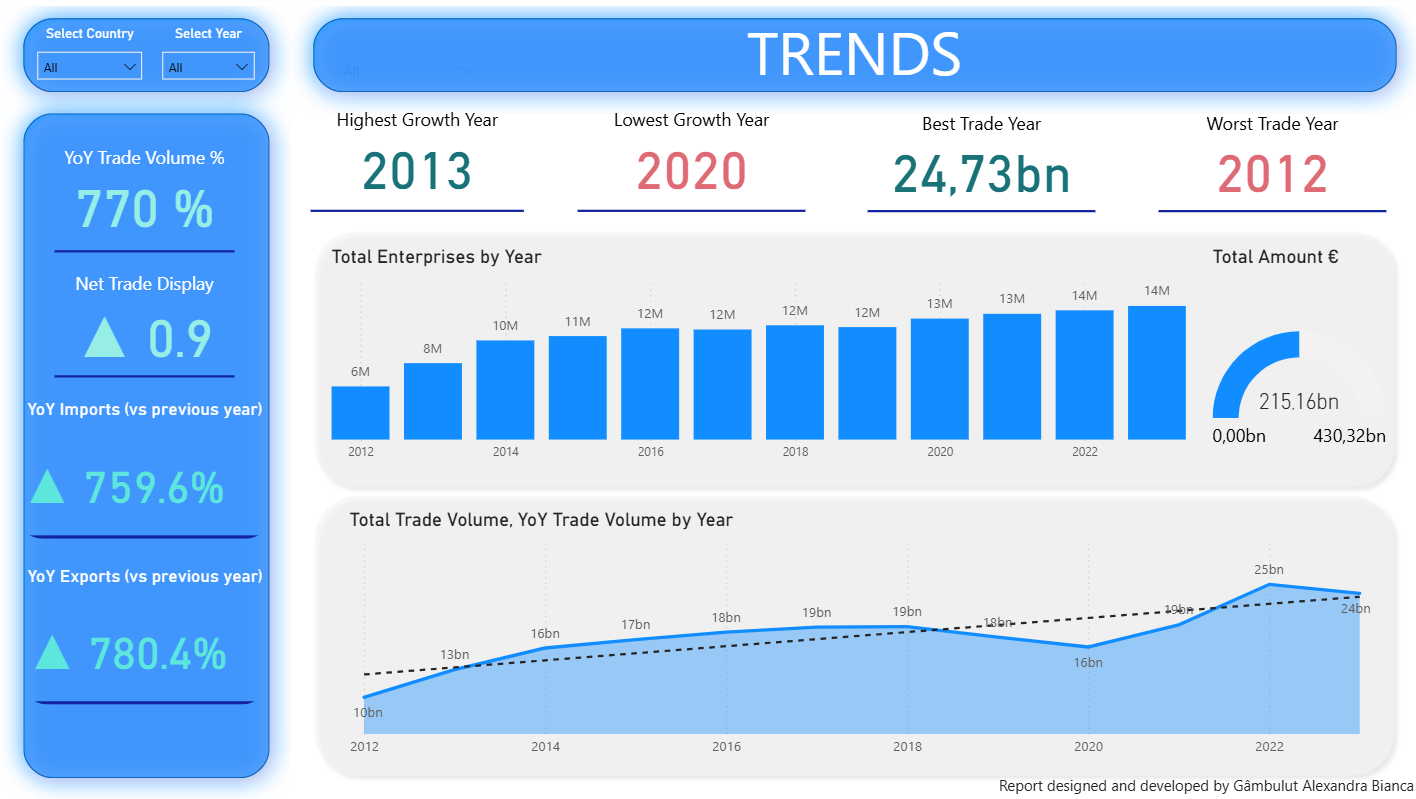

The dashboard page shown, as its layout file describes it:
{"tool":"powerbi","page":{"name":"Trends","canvas":[1280,720],"ordinal":3},"visuals":[{"type":"shape","box":[282.2,438.9,983.8,268.1],"z":0},{"type":"shape","box":[9.5,0,260.4,106.1],"z":1000},{"type":"slicer","title":"Select Year","fields":{"Values":["DimYear.DimYear"]},"box":[300.3,22.1,150.2,64.1],"z":2000},{"type":"shape","box":[282.5,202.7,983.9,245.7],"z":3000},{"type":"shape","box":[269.9,0,1010.1,106.1],"z":4000},{"type":"shape","box":[9.5,85.1,260.4,635.3],"z":5000},{"type":"cardVisual","title":"YoY Imports % (vs previous year)","fields":{"Data":["Fact_ImportsExports.Highest Growth Year"]},"box":[282.2,82.2,201.1,116.8],"z":6000},{"type":"cardVisual","title":"YoY Imports % (vs previous year)","fields":{"Data":["Fact_ImportsExports.Lowest Growth Year"]},"box":[521.1,82.2,214.1,116.8],"z":7000},{"type":"cardVisual","title":"YoY Imports % (vs previous year)","fields":{"Data":["Fact_ImportsExports.YoY Trade Volume %"]},"box":[53,114.6,171.9,120],"z":8000},{"type":"cardVisual","title":"YoY Imports % (vs previous year)","fields":{"Data":["Fact_ImportsExports.Best Trade Year"]},"box":[780.5,88.6,214.1,110.3],"z":9000},{"type":"cardVisual","title":"YoY Imports % (vs previous year)","fields":{"Data":["Fact_ImportsExports.Worst Trade Year"]},"box":[1041.1,88.6,214.1,110.3],"z":10000},{"type":"cardVisual","title":"YoY Imports (vs previous year)","fields":{"Data":["Fact_ImportsExports.YoY Imports % Display"]},"box":[13,360,251.9,131.9],"z":11000},{"type":"cardVisual","title":"YoY Exports (vs previous year)","fields":{"Data":["Fact_ImportsExports.YoY Exports % Display"]},"box":[17.3,509.2,243.2,130.8],"z":12000},{"type":"lineChart","title":"Total Trade Volume, YoY Trade Volume by Year","fields":{"Category":["DimYear.DimYear"],"Y":["Fact_ImportsExports.Total Trade Volume €"]},"box":[316.8,458.4,927.6,231.4],"z":13000},{"type":"clusteredColumnChart","fields":{"Category":["DimYear.DimYear"],"Y":["Fact_ImportsExports.Total Enterprises"]},"box":[300.5,222.7,775.1,203.2],"z":14000},{"type":"cardVisual","title":"YoY Imports % (vs previous year)","fields":{"Data":["Fact_ImportsExports.Net Trade Display"]},"box":[53,234.6,171.9,112.4],"z":15000},{"type":"slicer","title":"Select Country","fields":{"Values":["DimCountry.Country"]},"box":[32.6,27.3,114.5,64.1],"z":16000},{"type":"slicer","title":"Select Year","fields":{"Values":["DimYear.DimYear"]},"box":[143.9,27.3,102.9,64.1],"z":17000},{"type":"textbox","box":[282.5,8.4,983.9,83],"z":18000},{"type":"gauge","fields":{"Y":["Fact_ImportsExports.Total Amount €"]},"box":[1089.7,222.7,165.4,244.3],"z":19000},{"type":"textbox","box":[843.2,693.4,436.8,26.6],"z":19001}]}

Visuals, with their boxes in screenshot pixels (x1, y1, x2, y2), scaled from the page's 1280x720 canvas onto the 1416x799 screenshot:
shape: <region>312, 487, 1401, 785</region>
shape: <region>11, 0, 299, 118</region>
"Select Year" slicer: <region>332, 25, 498, 96</region>
shape: <region>313, 225, 1401, 498</region>
shape: <region>299, 0, 1415, 118</region>
shape: <region>11, 94, 299, 798</region>
"YoY Imports % (vs previous year)" cardVisual: <region>312, 91, 535, 221</region>
"YoY Imports % (vs previous year)" cardVisual: <region>576, 91, 813, 221</region>
"YoY Imports % (vs previous year)" cardVisual: <region>59, 127, 249, 260</region>
"YoY Imports % (vs previous year)" cardVisual: <region>863, 98, 1100, 221</region>
"YoY Imports % (vs previous year)" cardVisual: <region>1152, 98, 1389, 221</region>
"YoY Imports (vs previous year)" cardVisual: <region>14, 400, 293, 546</region>
"YoY Exports (vs previous year)" cardVisual: <region>19, 565, 288, 710</region>
"Total Trade Volume, YoY Trade Volume by Year" lineChart: <region>350, 509, 1377, 765</region>
clusteredColumnChart - DimYear.DimYear x Fact_ImportsExports.Total Enterprises: <region>332, 247, 1190, 473</region>
"YoY Imports % (vs previous year)" cardVisual: <region>59, 260, 249, 385</region>
"Select Country" slicer: <region>36, 30, 163, 101</region>
"Select Year" slicer: <region>159, 30, 273, 101</region>
textbox: <region>313, 9, 1401, 101</region>
gauge - Fact_ImportsExports.Total Amount €: <region>1205, 247, 1388, 518</region>
textbox: <region>933, 769, 1415, 798</region>
